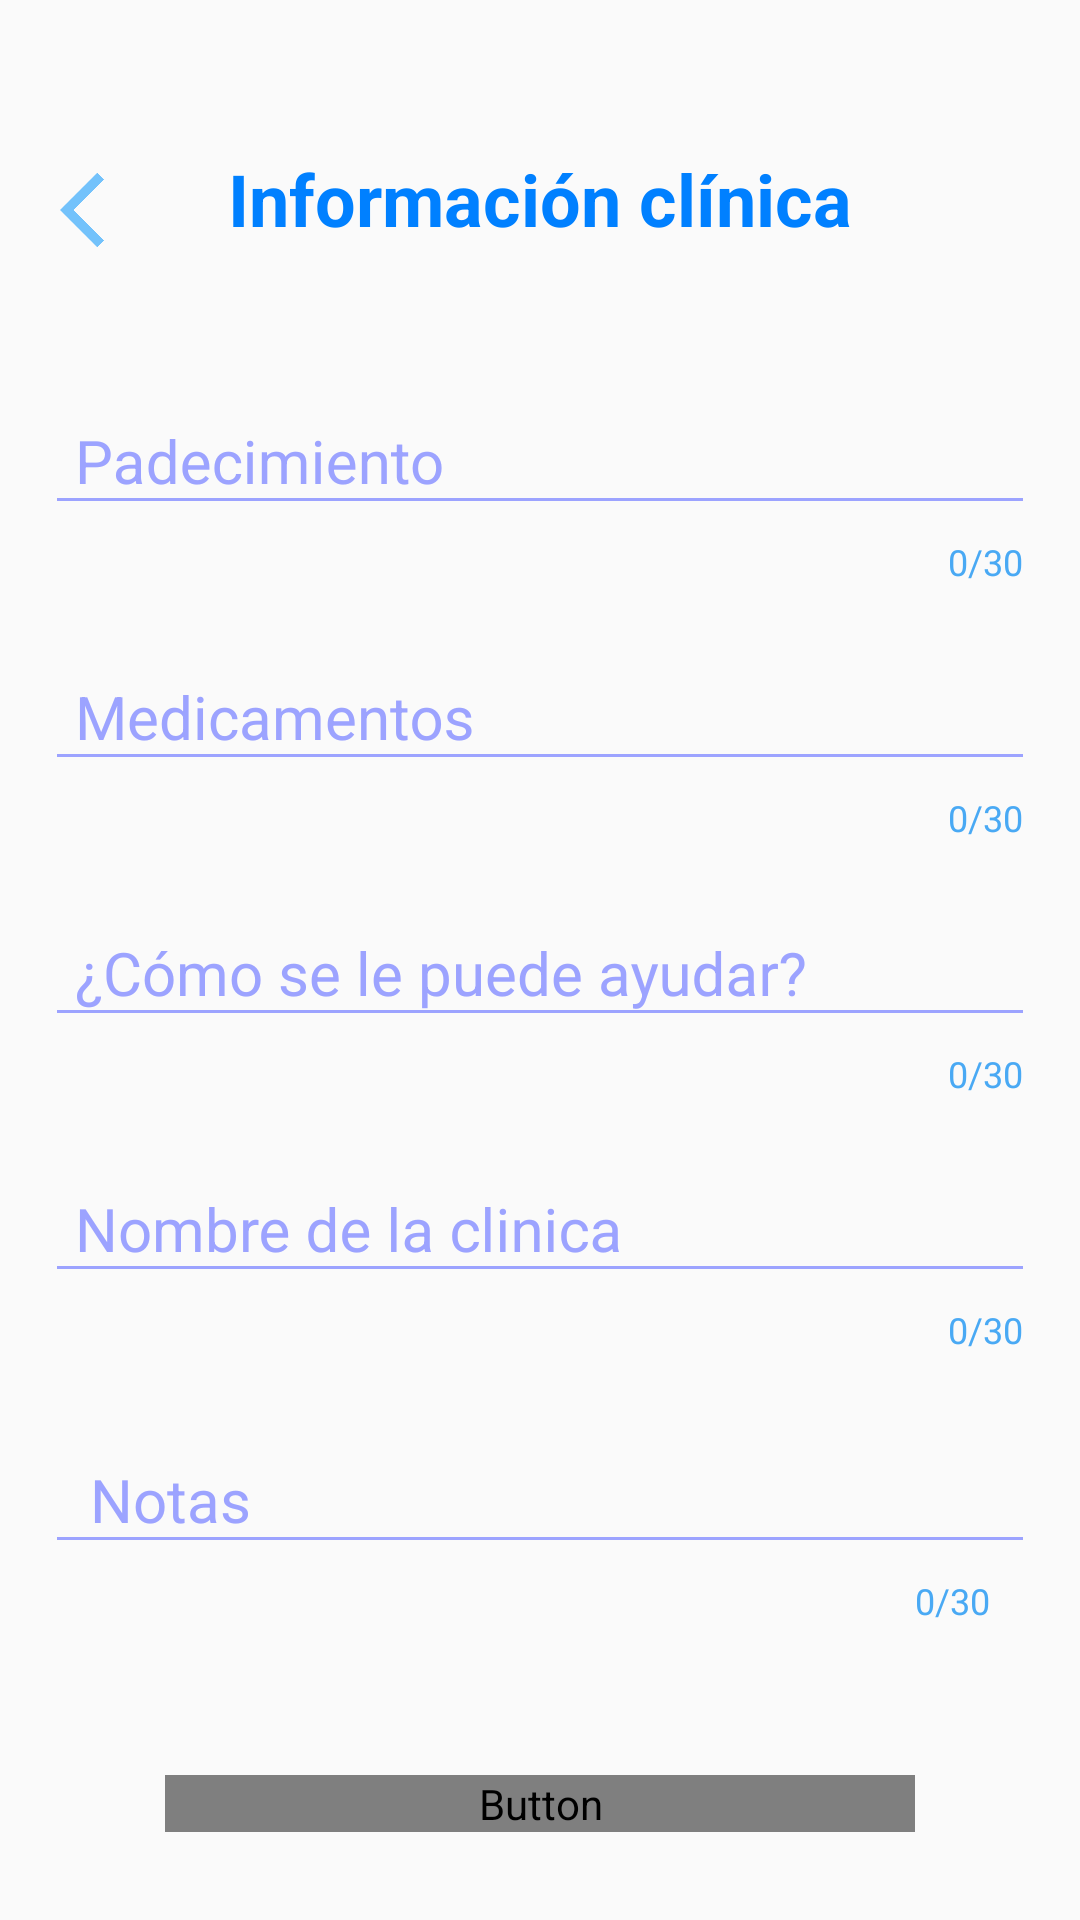

Screen size 1080px×1920px. Icon name, then its center in pixels as (x=x, y=y):
arrow back: (x=82, y=210)
